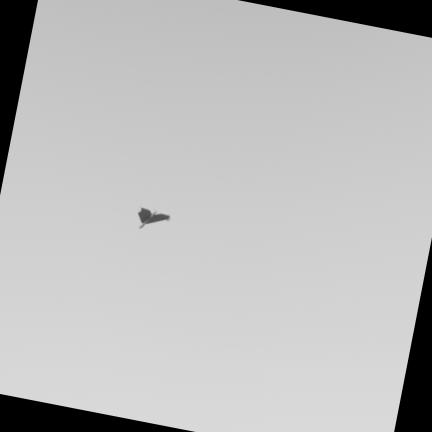Shahed: (138, 207, 170, 228)
